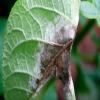Potato leaf early blight: (2, 0, 81, 99)
